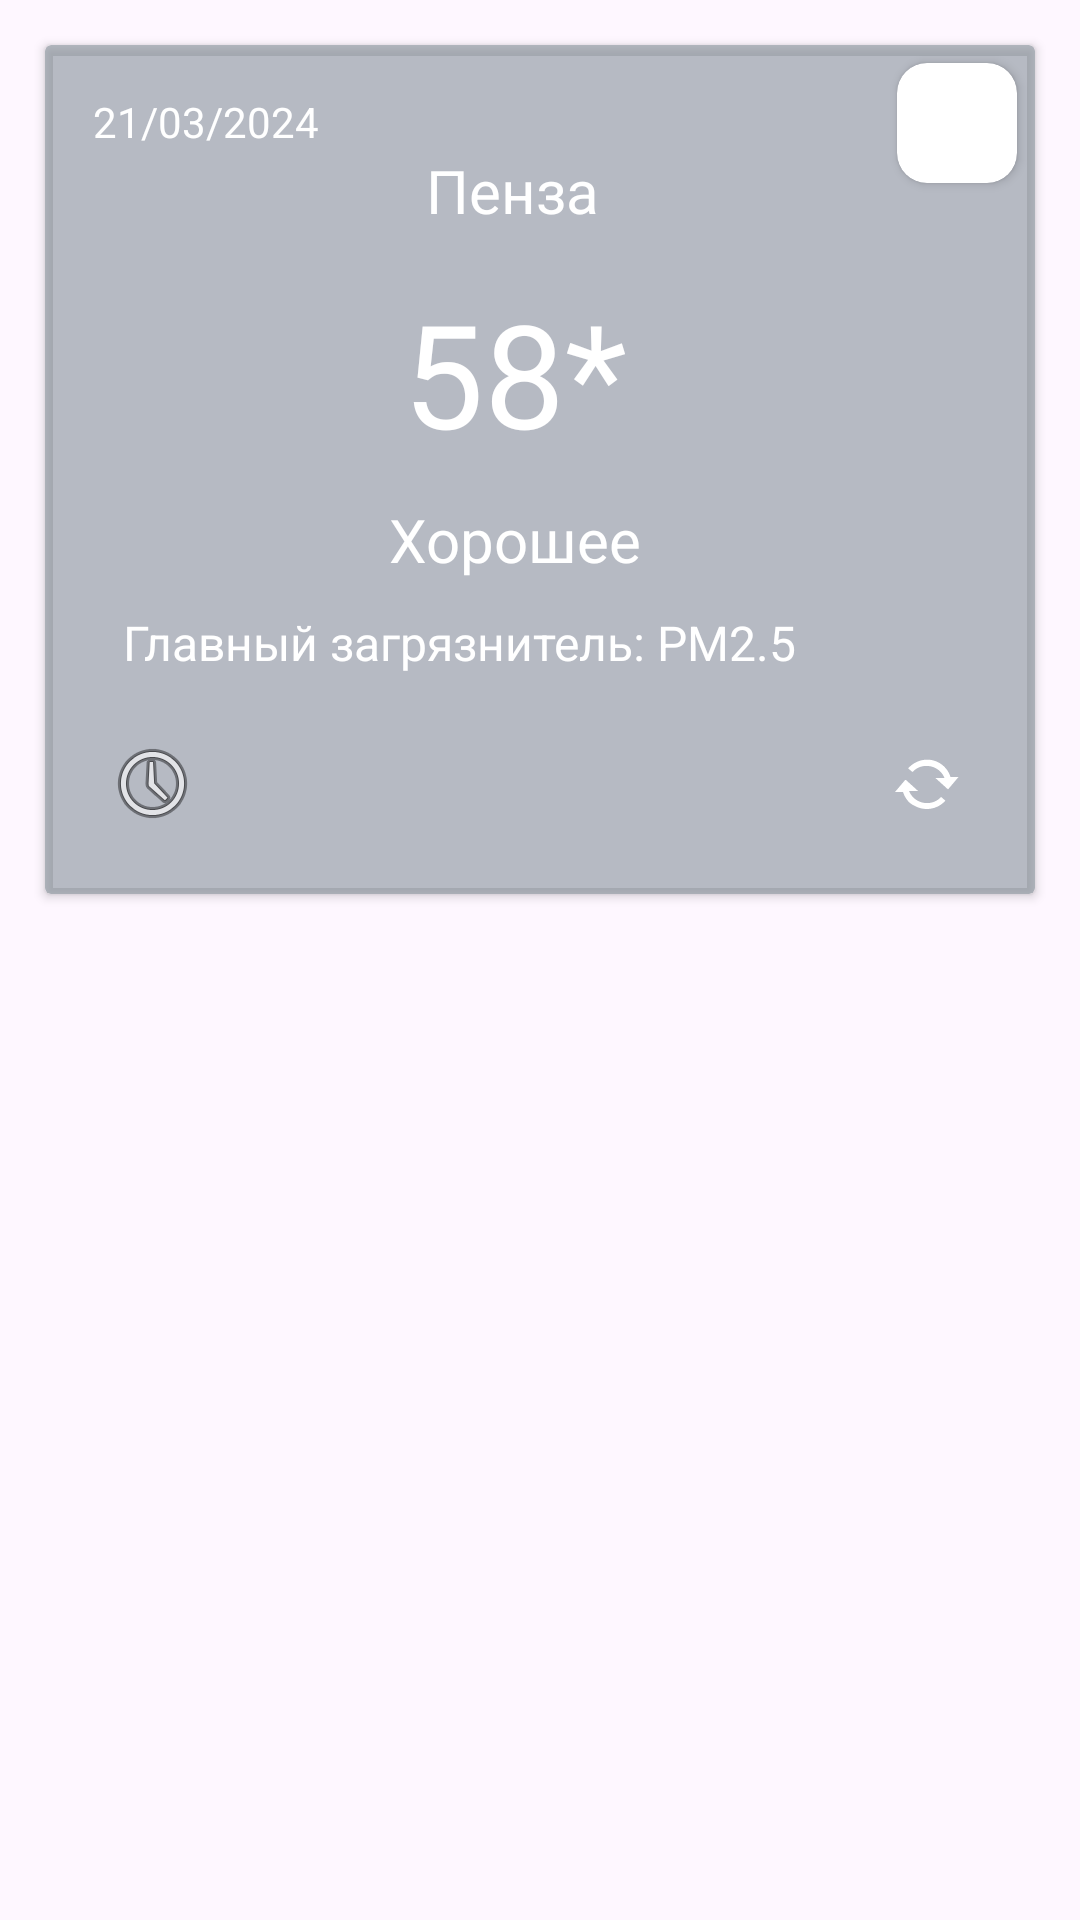

Icons on this 1080×1920 Android screen, each with the point to tap as point (x, y):
recent history: point (152, 783)
sync: point (926, 784)
